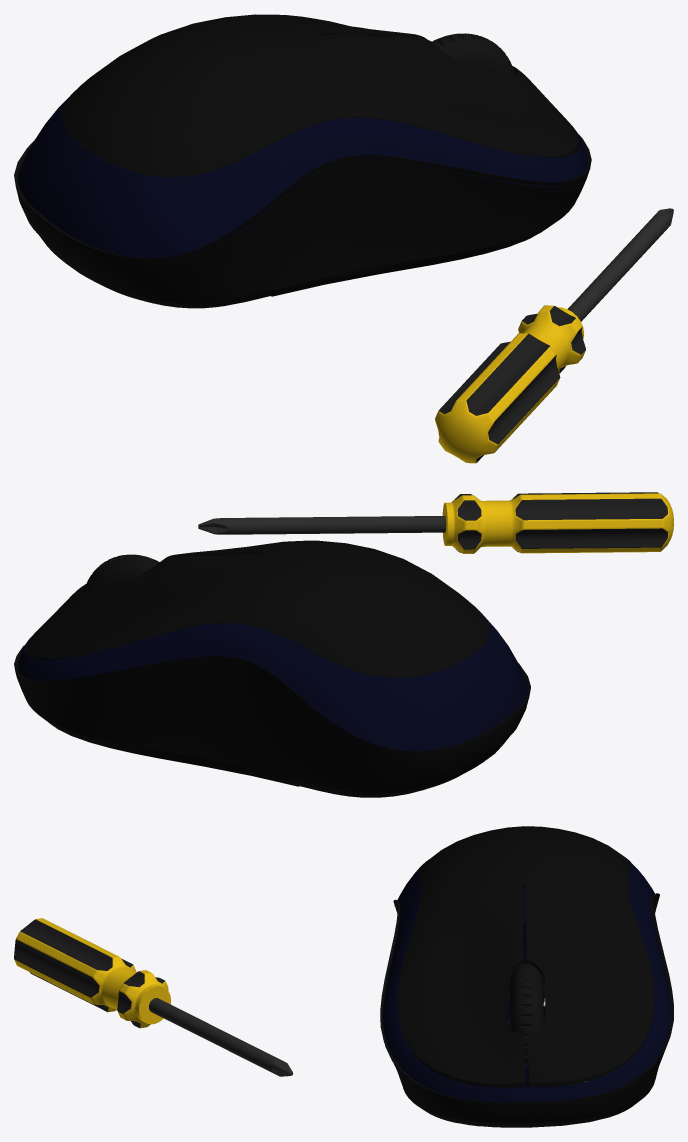
The model's file is Mouse.FBX.
The picture shows the model from 3 angles, top to bottom: view 1: azimuth 30°, elevation 25°; view 2: azimuth 150°, elevation 25°; view 3: azimuth 270°, elevation 25°; orthographic projection. The views are drawn at different scales.
Parts seen in each view (by area): view 1: Boss-Extrude12-DC_Shell, Fillet13-DC_Shell, Boss-Extrude36-DC_Shell, handle_2, Fillet3-DC_Shell, Metal, CirPattern4-DC_Shell; view 2: Boss-Extrude12-DC_Shell, Fillet13-DC_Shell, Boss-Extrude36-DC_Shell, handle_2, Metal, Fillet3-DC_Shell, CirPattern4-DC_Shell; view 3: Boss-Extrude12-DC_Shell, Boss-Extrude36-DC_Shell, handle_2, Fillet13-DC_Shell, Metal, CirPattern4-DC_Shell.
Boxes of the visible parts, x1,y1,x2,y2 form: Boss-Extrude12-DC_Shell: (62, 14, 578, 177); Fillet13-DC_Shell: (14, 134, 591, 296); Boss-Extrude36-DC_Shell: (18, 90, 587, 258); handle_2: (435, 305, 585, 463); Fillet3-DC_Shell: (39, 226, 275, 308); Metal: (567, 208, 673, 321); CirPattern4-DC_Shell: (431, 33, 515, 77); Boss-Extrude12-DC_Shell: (26, 540, 490, 677); Fillet13-DC_Shell: (14, 645, 530, 786); Boss-Extrude36-DC_Shell: (17, 611, 527, 750); handle_2: (442, 492, 673, 553); Metal: (198, 516, 446, 534); Fillet3-DC_Shell: (296, 736, 509, 797); CirPattern4-DC_Shell: (83, 554, 159, 592); Boss-Extrude12-DC_Shell: (398, 826, 654, 1087); Boss-Extrude36-DC_Shell: (383, 860, 671, 1102); handle_2: (14, 918, 170, 1028); Fillet13-DC_Shell: (380, 893, 673, 1127); Metal: (149, 998, 292, 1076); CirPattern4-DC_Shell: (509, 964, 544, 1061).
Size of the model in its own units: 100 by 37.47 by 135.
